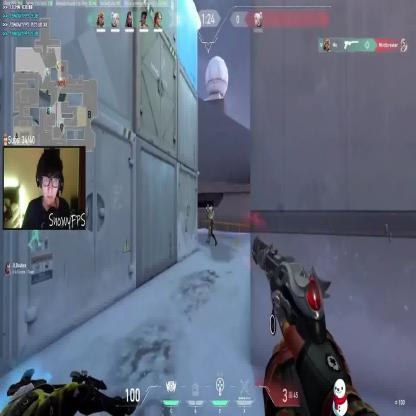enemy: (206, 205, 217, 246)
enemy_head: (209, 205, 214, 212)
